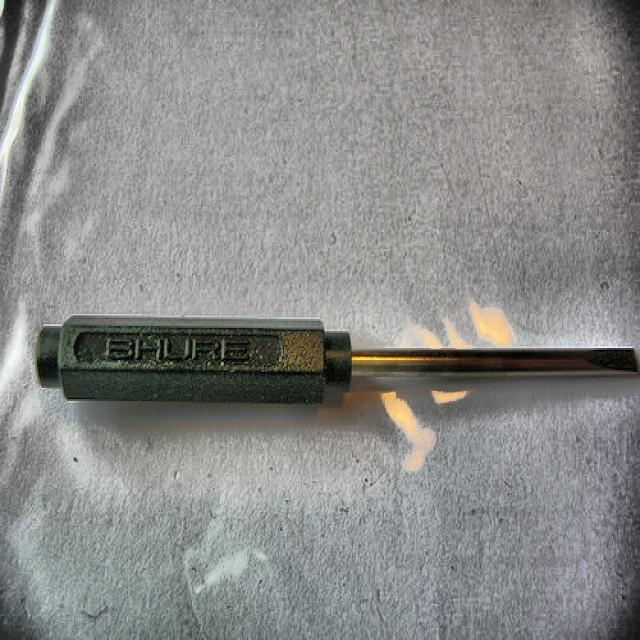screwdriver: (38, 319, 640, 402)
